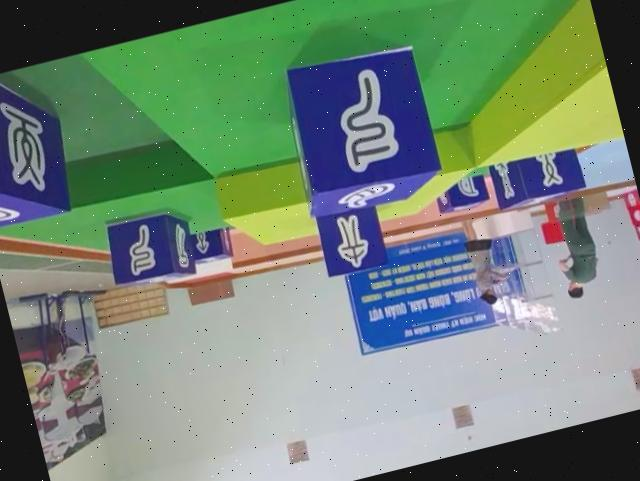R2 Fake Blue: (271, 37, 445, 225), (0, 63, 76, 233), (98, 203, 199, 293), (314, 201, 391, 279)
R2 Real Blue: (488, 140, 588, 210), (429, 171, 488, 215), (185, 223, 235, 265)
